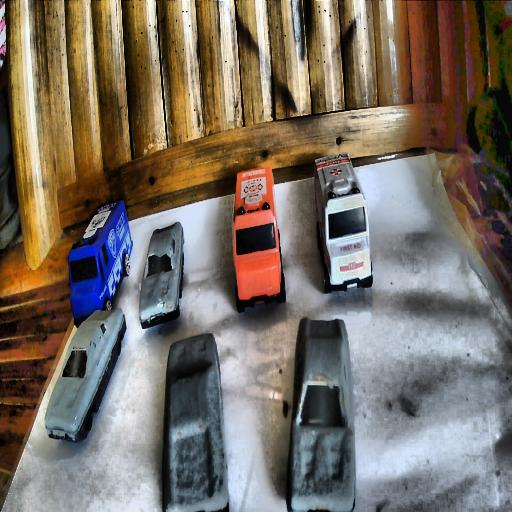ambulance: (314, 152, 374, 294)
fire_truck: (232, 166, 286, 310)
normal_car: (287, 318, 355, 511), (162, 332, 228, 512), (44, 307, 126, 444), (139, 220, 185, 329)
police car: (68, 200, 132, 326)
